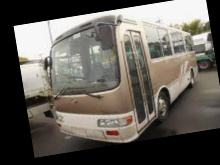bus: (38, 4, 208, 154), (191, 32, 217, 71)
